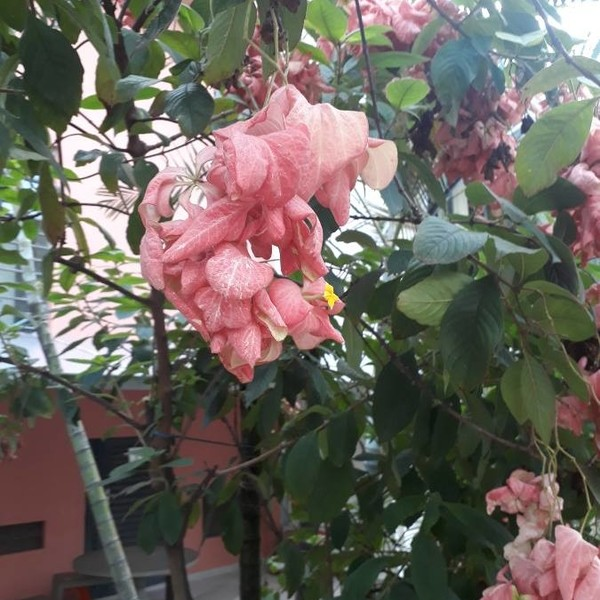obstacle: (147, 59, 569, 476)
